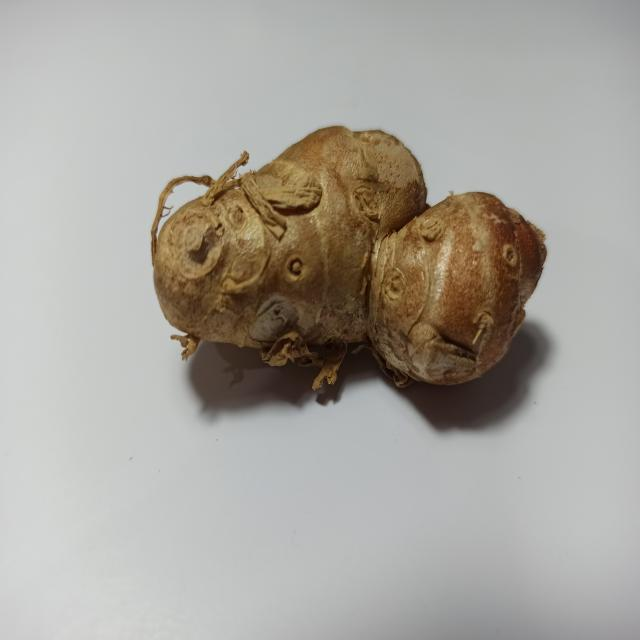ginger: (152, 124, 547, 384)
